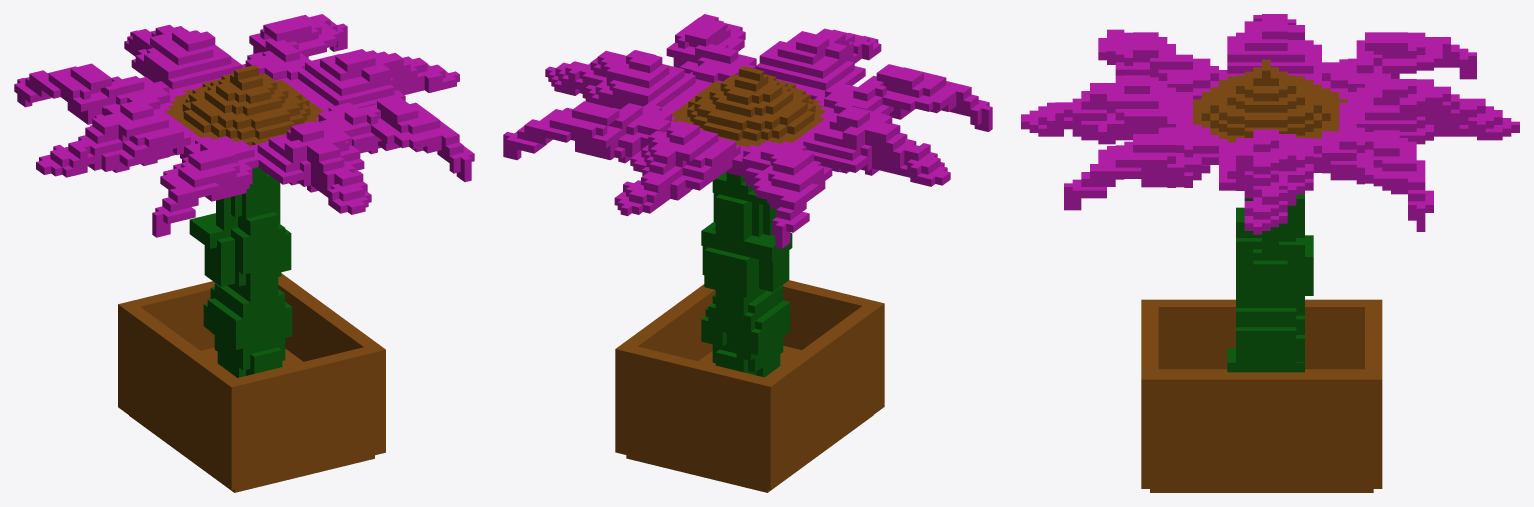
The model's file is flower.obj.
The picture shows the model from 3 angles, left to right: view 1: azimuth 30°, elevation 25°; view 2: azimuth 150°, elevation 25°; view 3: azimuth 270°, elevation 25°; orthographic projection. The views are drawn at different scales.
Size of the model in its own units: 58 by 50 by 58.
Materials: 1 (1 with a texture image).
